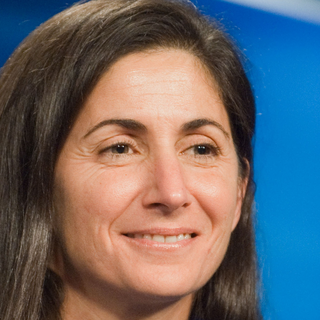eye: (96, 138, 144, 163), (179, 138, 224, 163)
